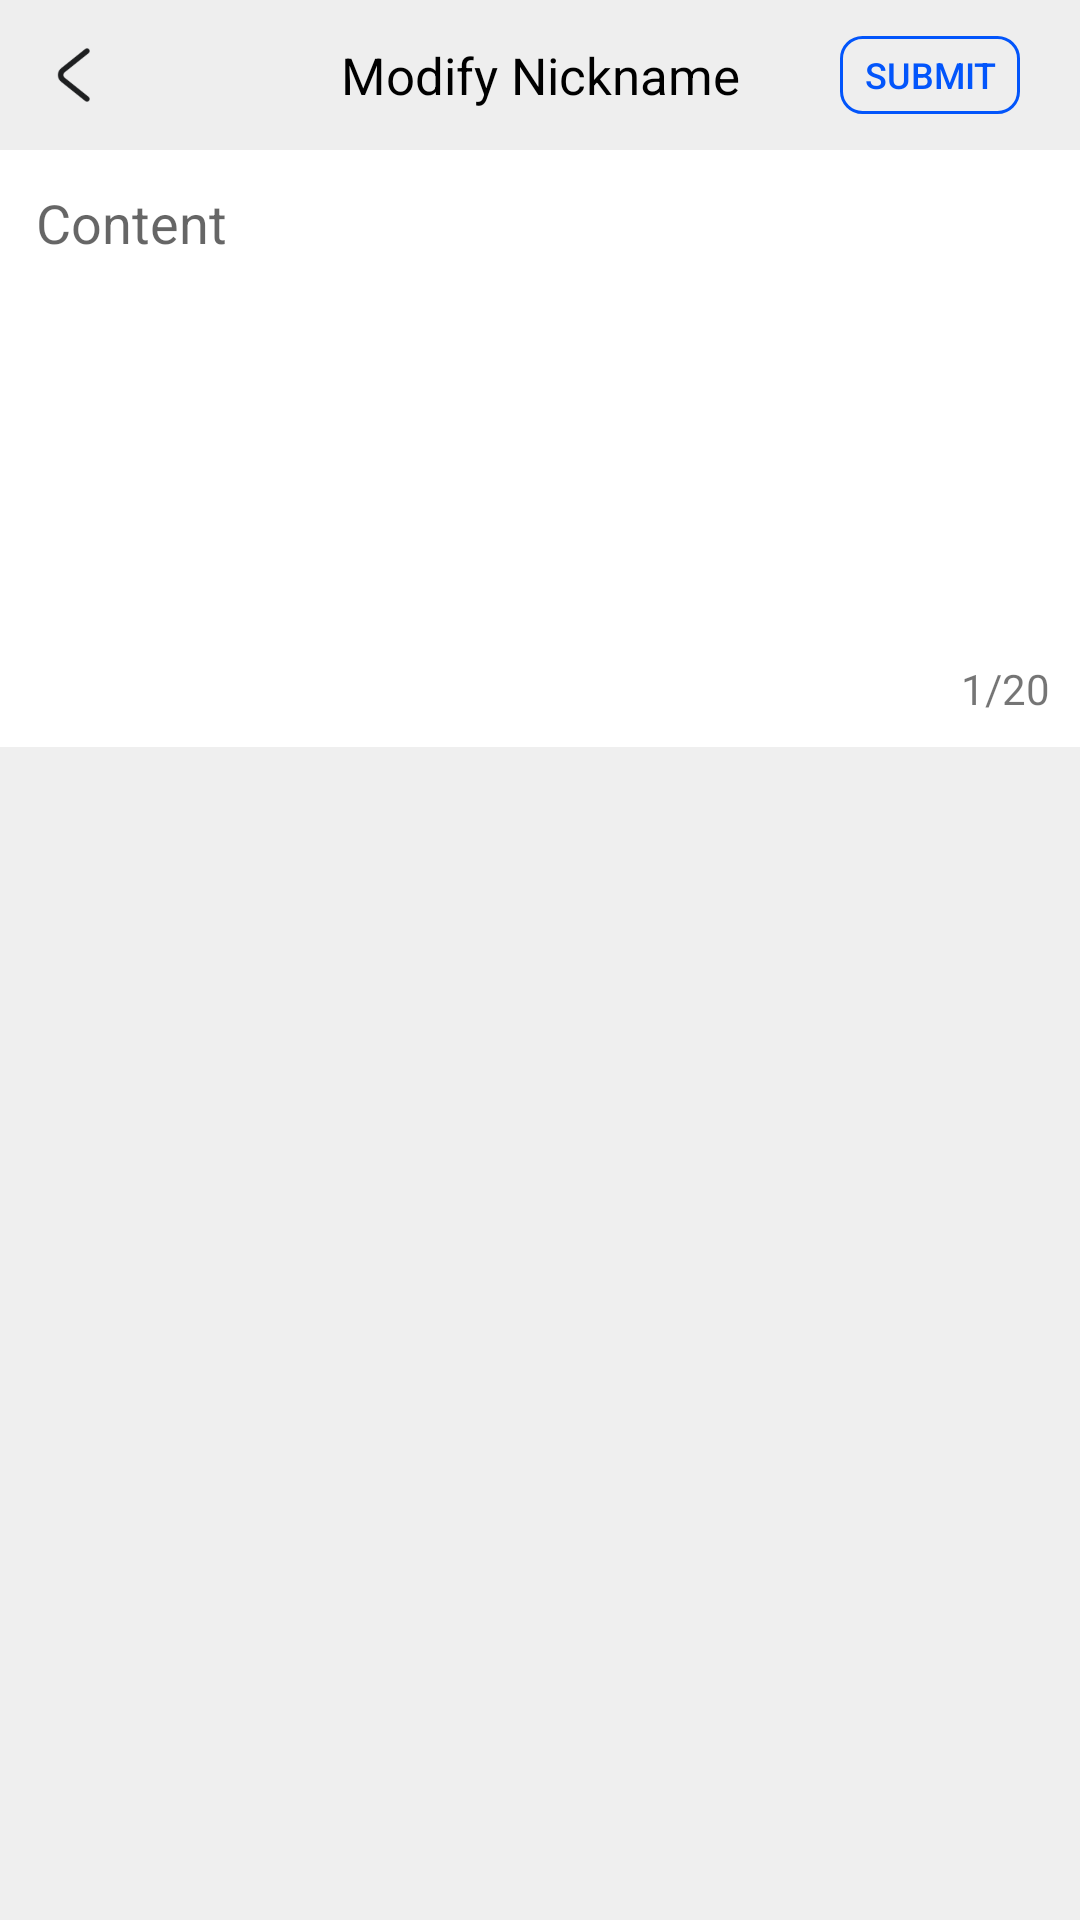

Named icons in this screenshot (1080px x 1920px) and their bounding boxes, [left=x1, top=y1, right=x2, bottom=y2]:
Back: [left=57, top=48, right=90, bottom=102]
